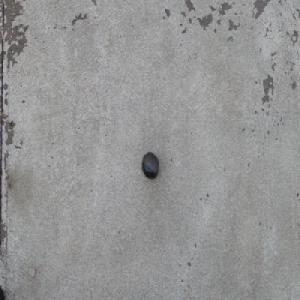FuelCap: (141, 151, 159, 179)
